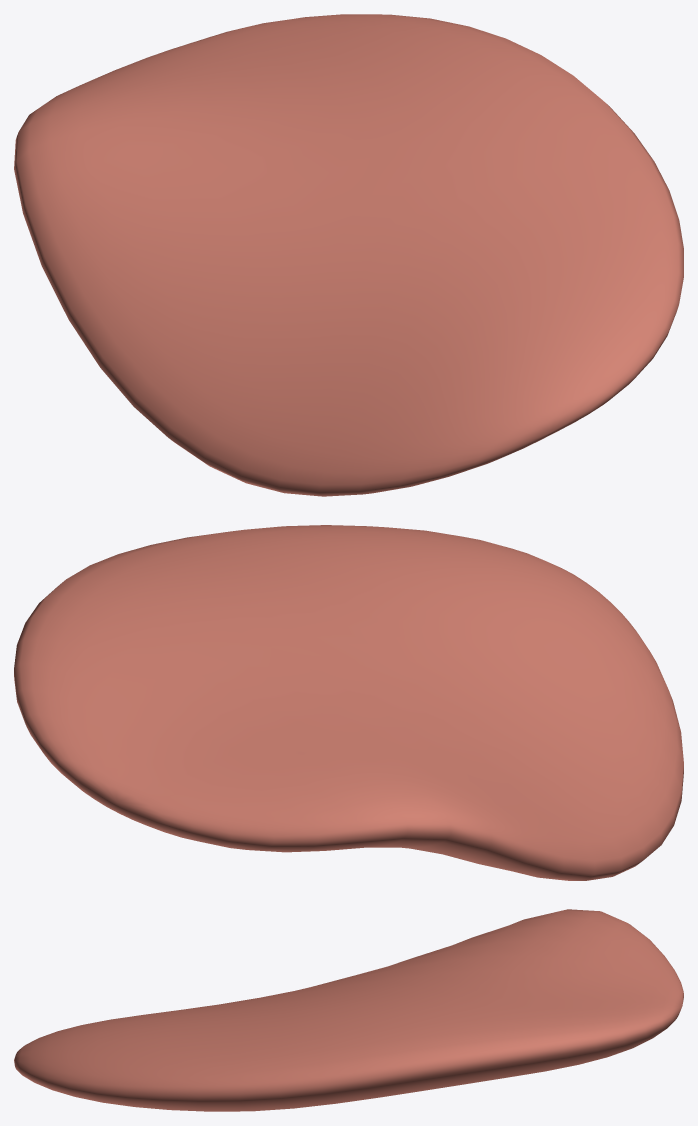
3 renders of one model, top to bottom at view 1: azimuth 30°, elevation 25°; view 2: azimuth 150°, elevation 25°; view 3: azimuth 270°, elevation 25°, orthographic. The views are drawn at different scales.
Visible parts, largest first — view 1: 左侧髂耻囊; view 2: 左侧髂耻囊; view 3: 左侧髂耻囊.
Boxes of the visible parts, bbox=[...] form: 左侧髂耻囊: bbox=[14, 14, 683, 496]; 左侧髂耻囊: bbox=[14, 525, 683, 880]; 左侧髂耻囊: bbox=[14, 909, 683, 1111].
Size of the model in its own units: 0.0334 by 0.0146 by 0.0465.
